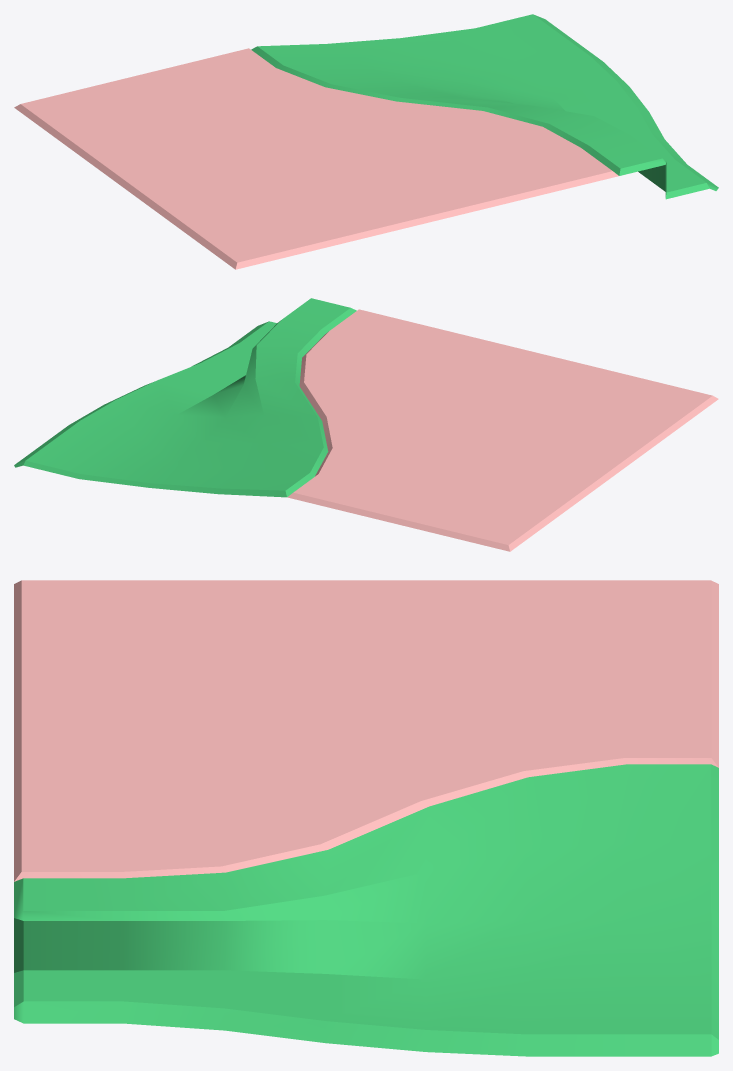
Rendered from mesh_Paving_DrivewayLeft_v1.3.fbx.
3 views of the same model, one above another, from view 1: azimuth 30°, elevation 25°; view 2: azimuth 150°, elevation 25°; view 3: azimuth 270°, elevation 25° (orthographic). The views are drawn at different scales.
Visible parts, largest first — view 1: mesh_Paving_DrivewayLeft; view 2: mesh_Paving_DrivewayLeft; view 3: mesh_Paving_DrivewayLeft.
Part boxes in pixels (bbox=[...]): mesh_Paving_DrivewayLeft: bbox=[14, 14, 718, 269]; mesh_Paving_DrivewayLeft: bbox=[14, 298, 718, 551]; mesh_Paving_DrivewayLeft: bbox=[14, 580, 718, 1056].
Bounding box in the file's own units: 138 × 10.77 × 100.
